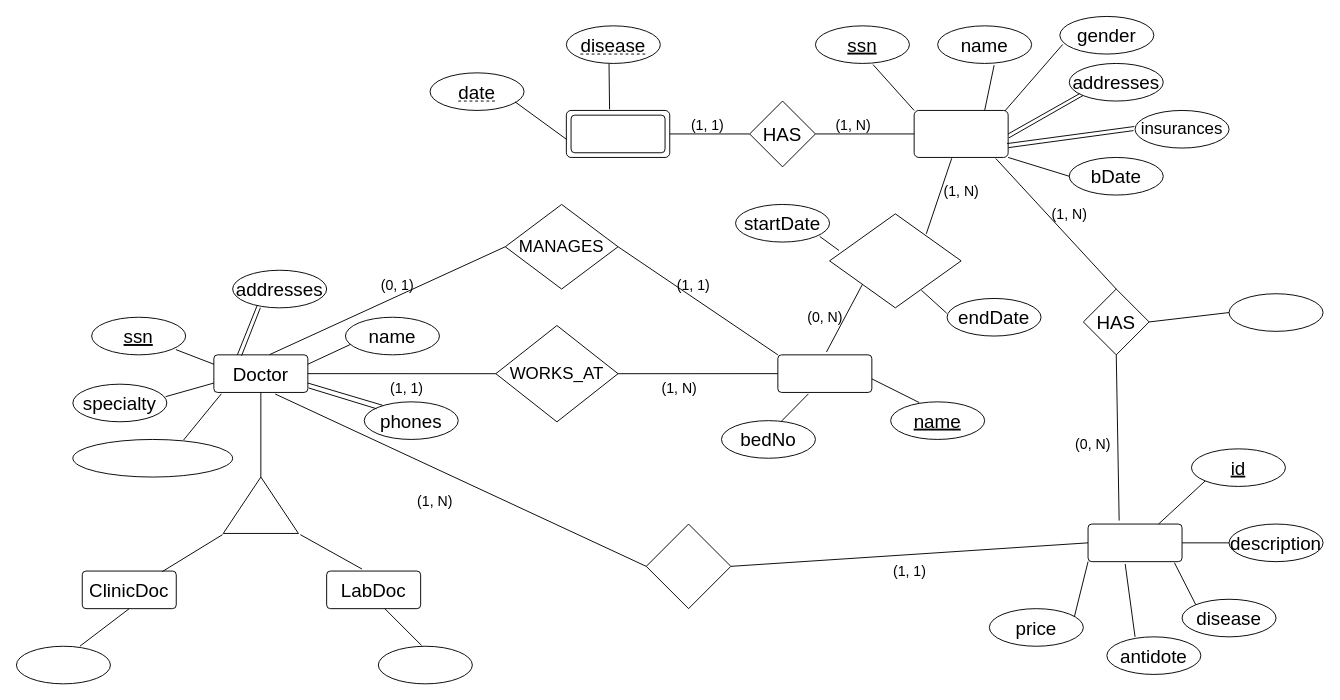
Image size: 1340x700. Some labels were removed from this diagram. Here are the shapes that lost their labels. From the top down, the box of each, then its label:
(570, 114, 665, 153): Previous Diagnoses
(913, 110, 1008, 157): Patient
(829, 213, 961, 308): HOSPITALIZED
(1228, 293, 1323, 331): results
(777, 354, 872, 392): Clinic
(72, 439, 233, 477): workingAtClinicSince
(222, 476, 298, 533): IsA
(1087, 523, 1182, 562): Diagnosis
(645, 523, 731, 609): MAKES
(16, 645, 110, 684): yearsServed
(377, 645, 472, 684): diseaseType
